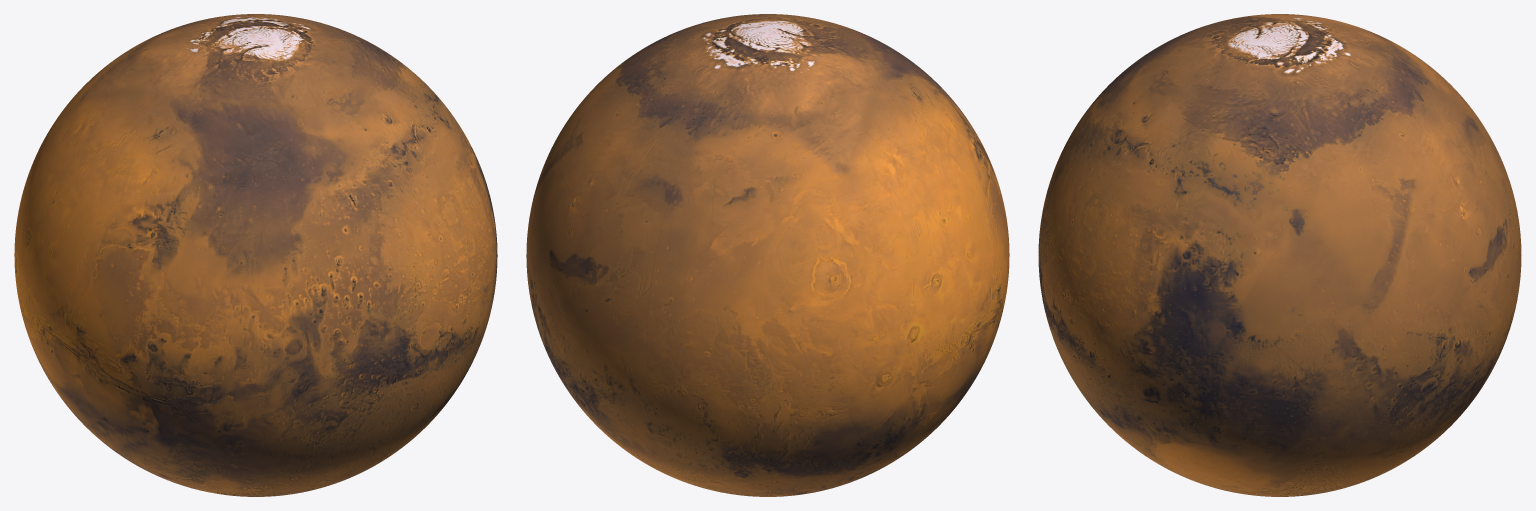
File: mars__4k_-_nasa_-_photography.glb
3 views of the same model, side by side, from view 1: azimuth 30°, elevation 25°; view 2: azimuth 150°, elevation 25°; view 3: azimuth 270°, elevation 25° (orthographic).
Visible parts, largest first — view 1: Sourse__0; view 2: Sourse__0; view 3: Sourse__0.
Part boxes in pixels (x1,y1,x2,y2): Sourse__0: [14, 14, 497, 496]; Sourse__0: [526, 14, 1009, 496]; Sourse__0: [1038, 14, 1521, 496].
Size of the model in its own units: 8 by 8 by 8.
1 material, 1 textured.
